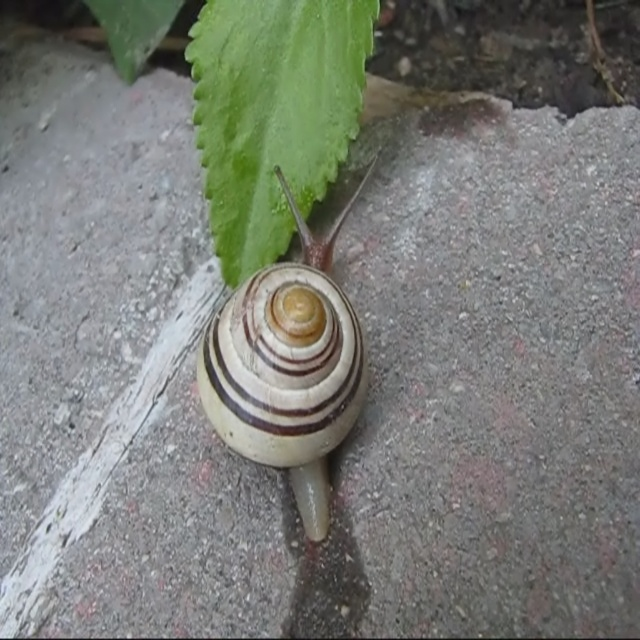Snail: (194, 141, 387, 549)
